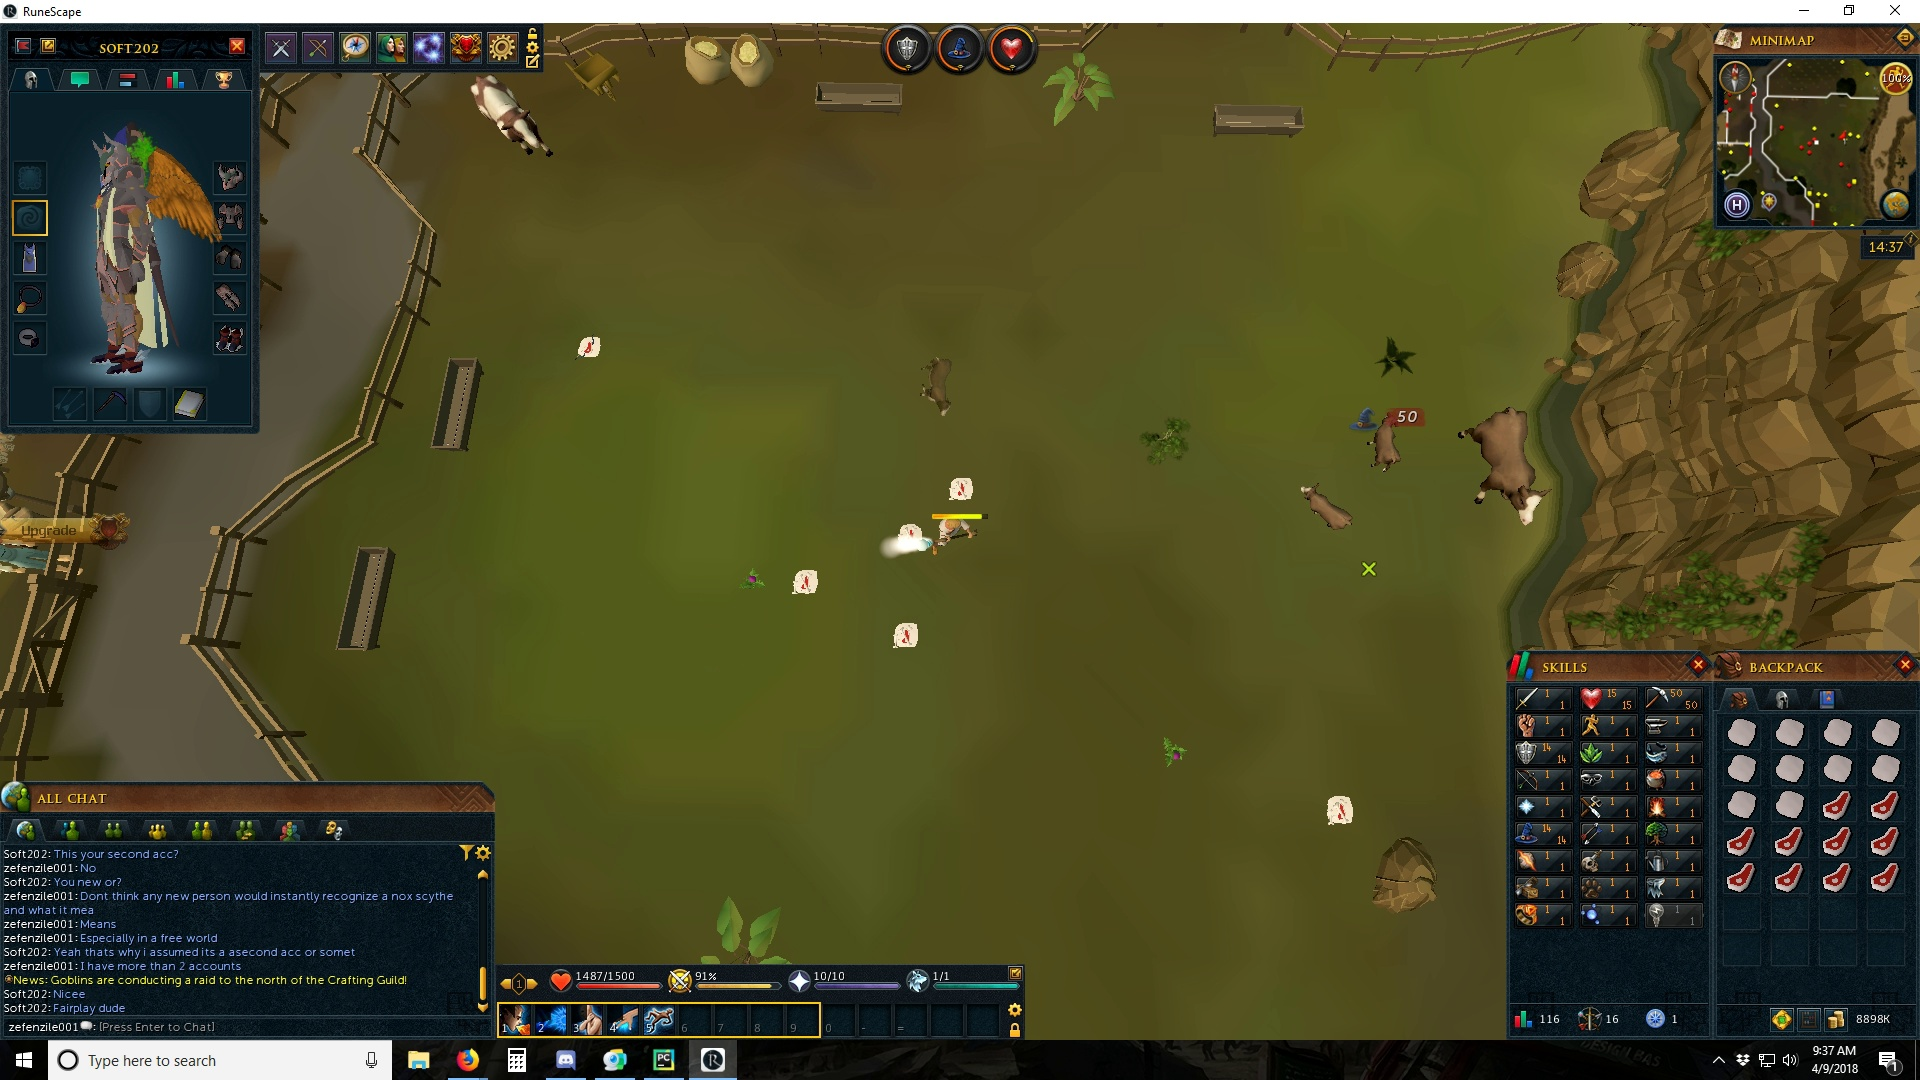calf: (1296, 481, 1353, 531), (1364, 411, 1403, 479)
cow: (1458, 407, 1553, 527), (468, 74, 554, 160)
cow_drop: (1324, 793, 1354, 825), (790, 564, 819, 597), (948, 475, 977, 506), (891, 618, 920, 650), (574, 336, 607, 360), (897, 521, 927, 542)
